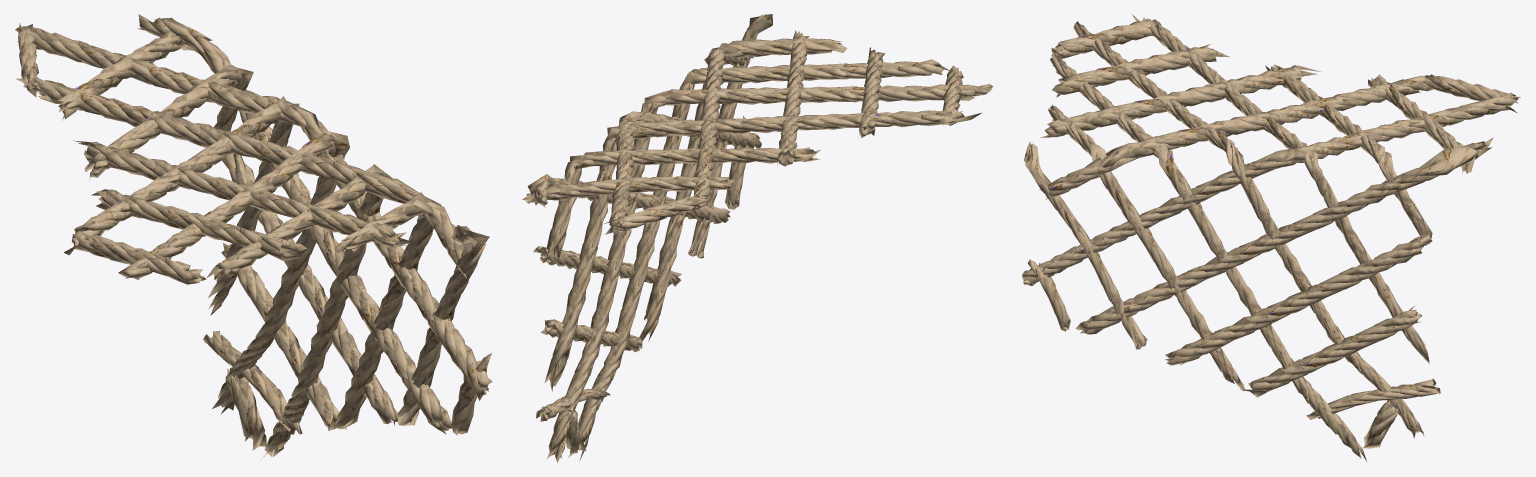
Rendered from rope_net_resting.glb.
The picture shows the model from 3 angles, left to right: view 1: azimuth 30°, elevation 25°; view 2: azimuth 150°, elevation 25°; view 3: azimuth 270°, elevation 25°; orthographic projection. The views are drawn at different scales.
Parts seen in each view (by area): view 1: Circle.012; view 2: Circle.012; view 3: Circle.012.
Part boxes in pixels (left/top/right/bottom): Circle.012: left=15, top=14, right=492, bottom=459; Circle.012: left=522, top=14, right=993, bottom=462; Circle.012: left=1022, top=14, right=1520, bottom=462.
Bounding box in the file's own units: 1.51 × 1.63 × 2.31.
1 material, 1 textured.
